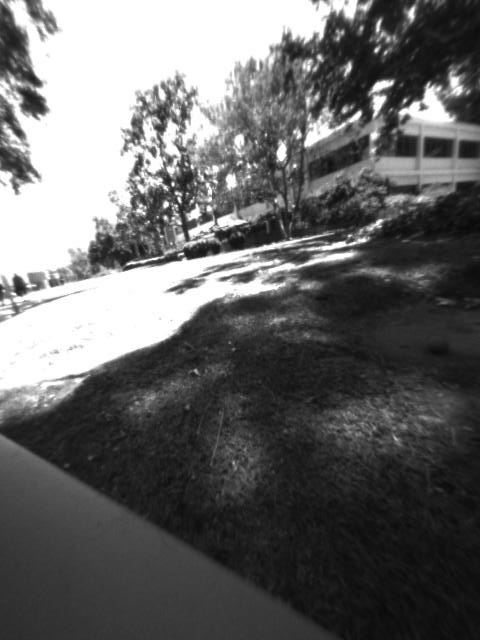dogtoy: (422, 329, 454, 359)
